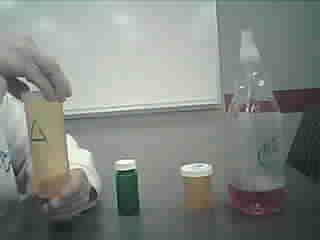Bottle A: (15, 82, 81, 207)
Bottle B: (178, 160, 218, 219)
Bottle C: (110, 154, 149, 219)
hazard: (223, 19, 302, 226)
